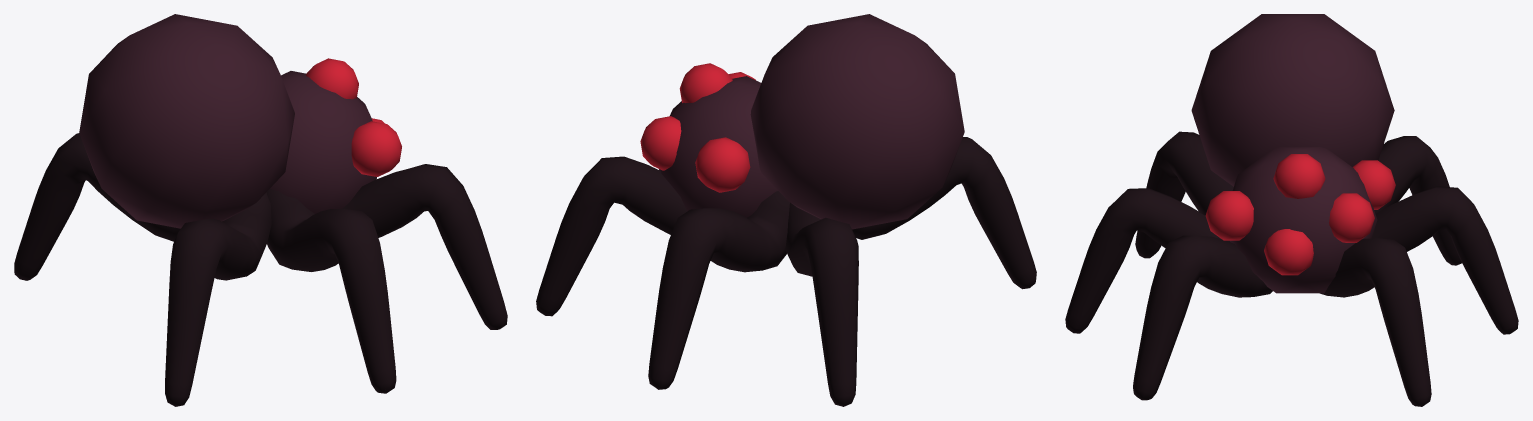
Rendered from Spider.fbx.
3 views of the same model, side by side, from view 1: azimuth 30°, elevation 25°; view 2: azimuth 150°, elevation 25°; view 3: azimuth 270°, elevation 25° (orthographic). The views are drawn at different scales.
Visible parts, largest first — view 1: SpiderLegs, SpiderTop, SpiderHead; view 2: SpiderLegs, SpiderTop, SpiderHead; view 3: SpiderLegs, SpiderTop, SpiderHead.
Boxes of the visible parts, x1=… form: SpiderLegs: x1=14, y1=133, x2=507, y2=406; SpiderTop: x1=79, y1=14, x2=294, y2=228; SpiderHead: x1=270, y1=58, x2=401, y2=213; SpiderLegs: x1=536, y1=137, x2=1036, y2=406; SpiderTop: x1=750, y1=14, x2=964, y2=229; SpiderHead: x1=640, y1=63, x2=778, y2=217; SpiderLegs: x1=1065, y1=131, x2=1518, y2=406; SpiderTop: x1=1191, y1=14, x2=1394, y2=186; SpiderHead: x1=1205, y1=147, x2=1395, y2=293.
Bounding box in the file's own units: 116 × 94.52 × 139.
